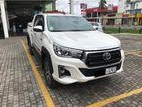car: (27, 14, 126, 88)
